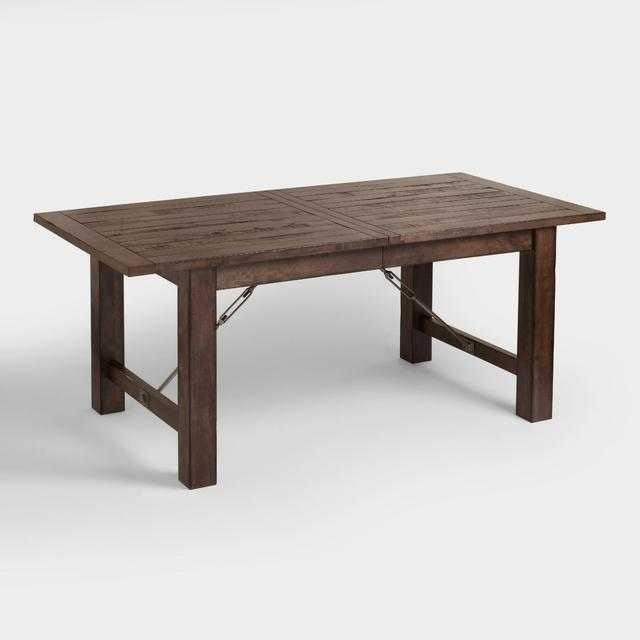obstacle: (34, 173, 604, 487)
